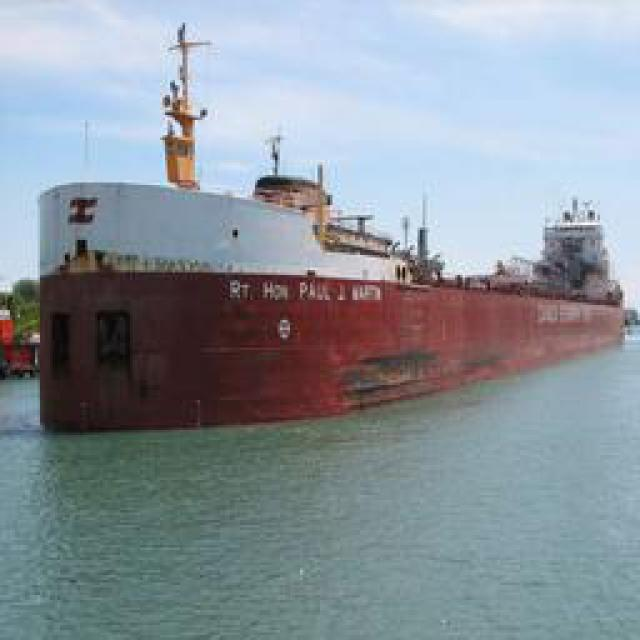Ship: (17, 149, 625, 452)
